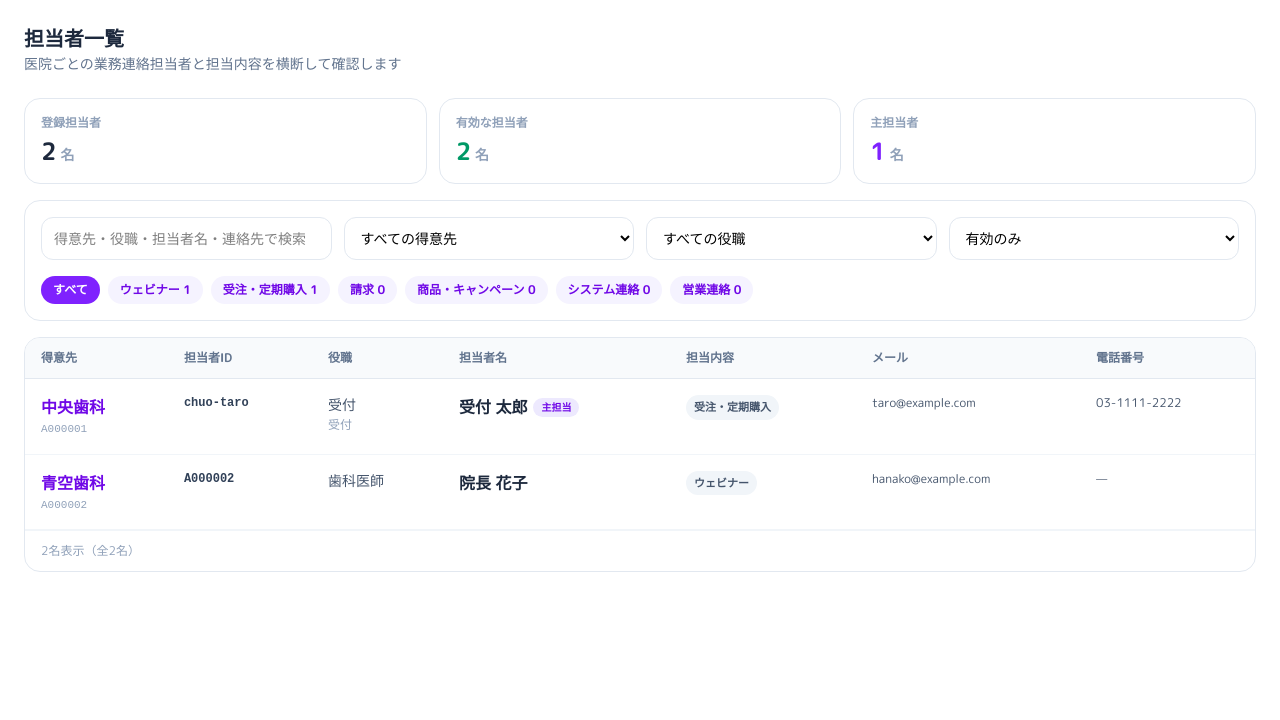
Scenario: BGJ担当者一覧 › 担当内容と役職で絞り込める
Expected: the text "受付 太郎" is shown, 459,395 -> 527,419
Click the button "ウェビナー 1" at (155, 290), box 108,276 -> 203,304
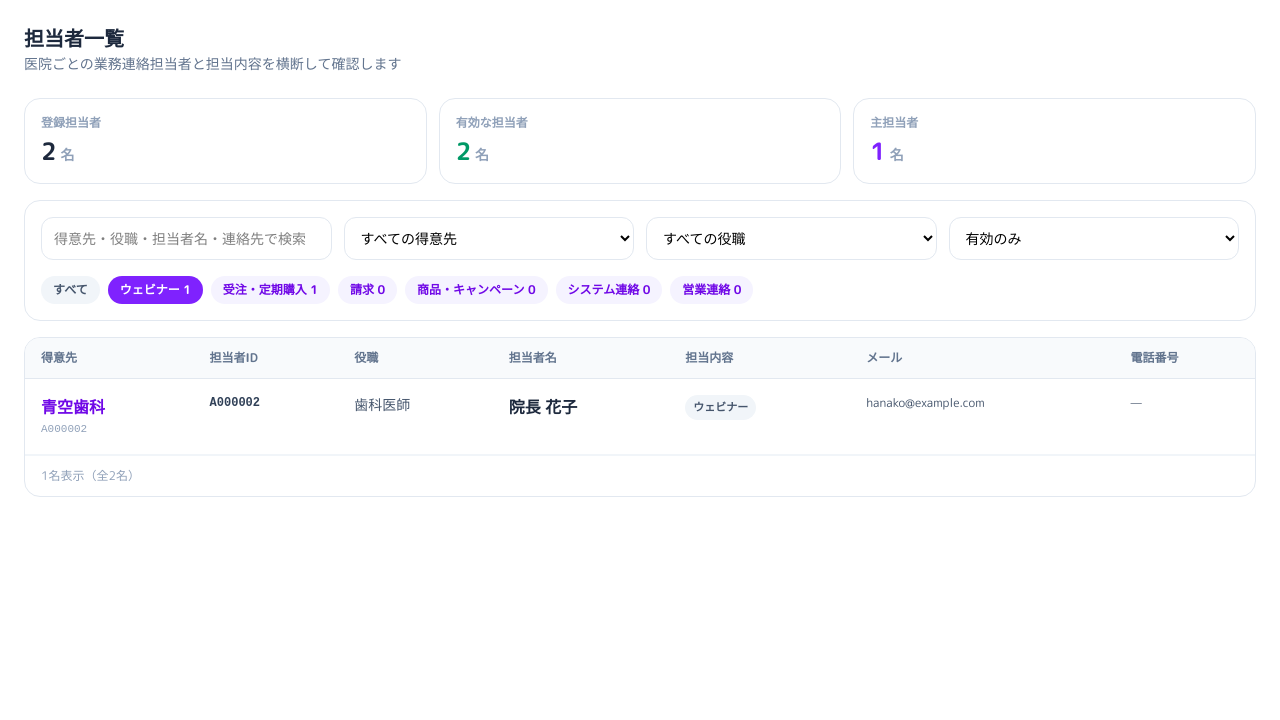
Expected: the text "院長 花子" is shown, 509,395 -> 577,419
Expected: the text "受付 太郎" is gone
Select "受付" in the dropdown named "役職で絞り込み" at (791, 238), box 646,217 -> 936,260
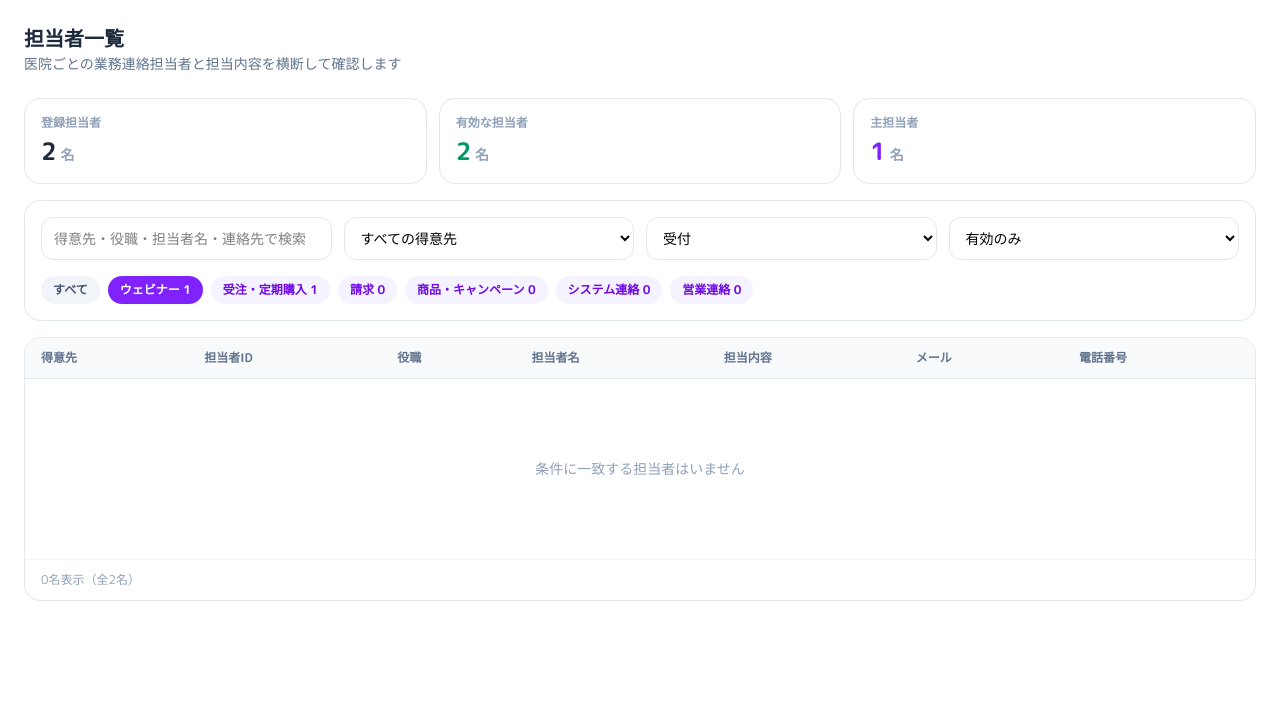
Expected: the text "条件に一致する担当者はいません" is shown, 25,378 -> 1255,559
